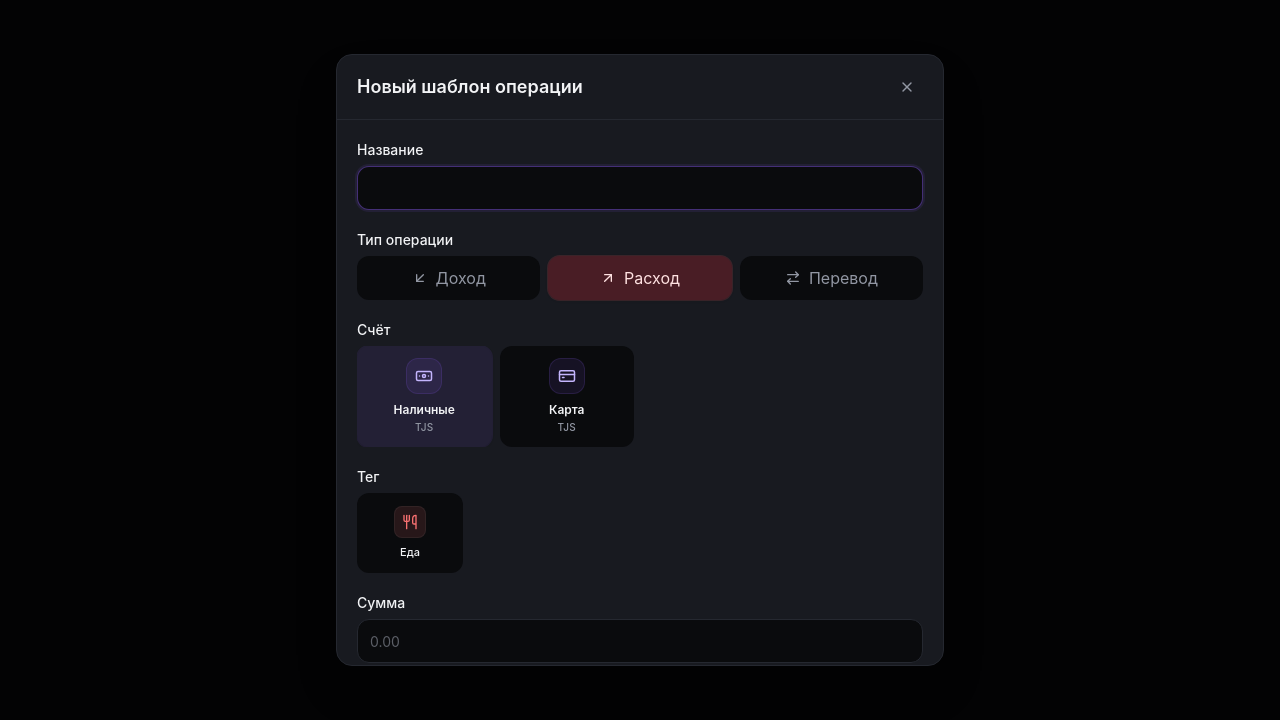
Test: FinanceTemplateDialog › switches account and tag cards with the selected operation type
This screenshot has width=1280, height=720.
Click the radio button labelled "Доход" at (449, 278), box [357, 256, 540, 300]
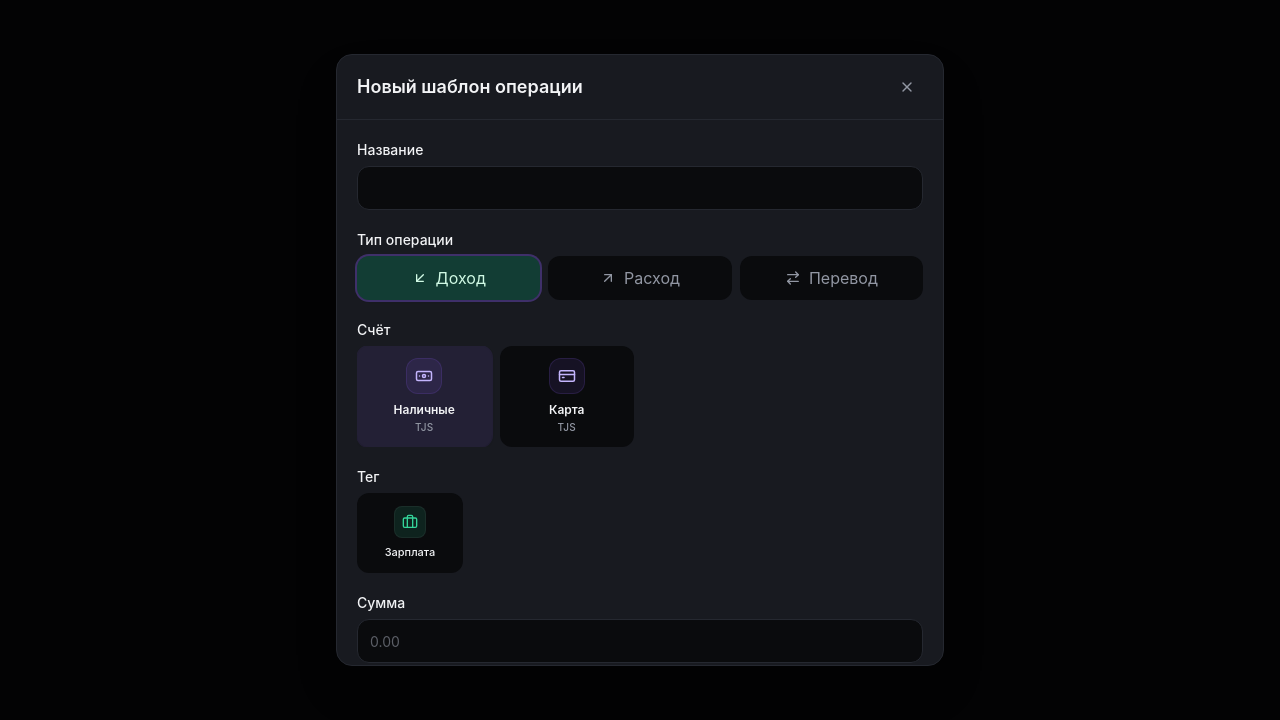
Check: the radio button labelled "Зарплата" is shown, box [357, 493, 463, 573]
Check: the radio button labelled "Еда" is gone
Click the radio button labelled "Перевод" at (831, 278), box [740, 256, 923, 300]
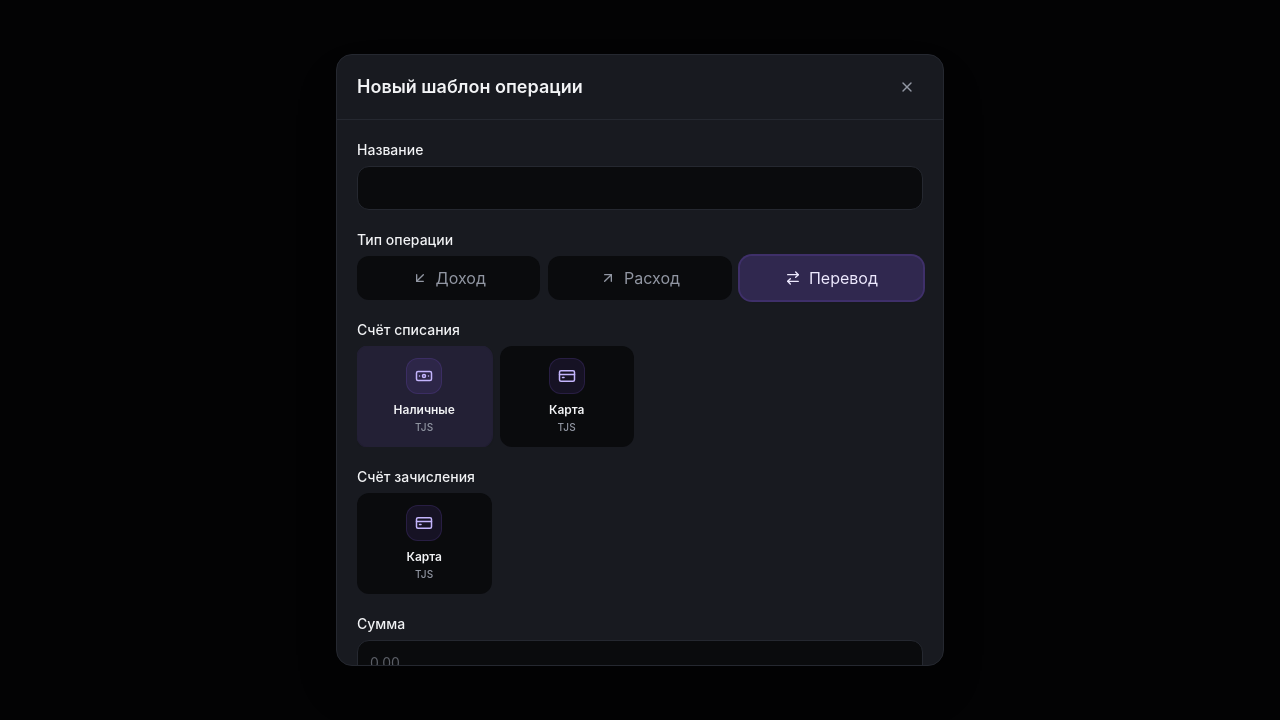
Check: the radio button labelled "Зарплата" is gone
Check: the element named "Счёт зачисления шаблона" is shown, box [357, 493, 492, 594]
